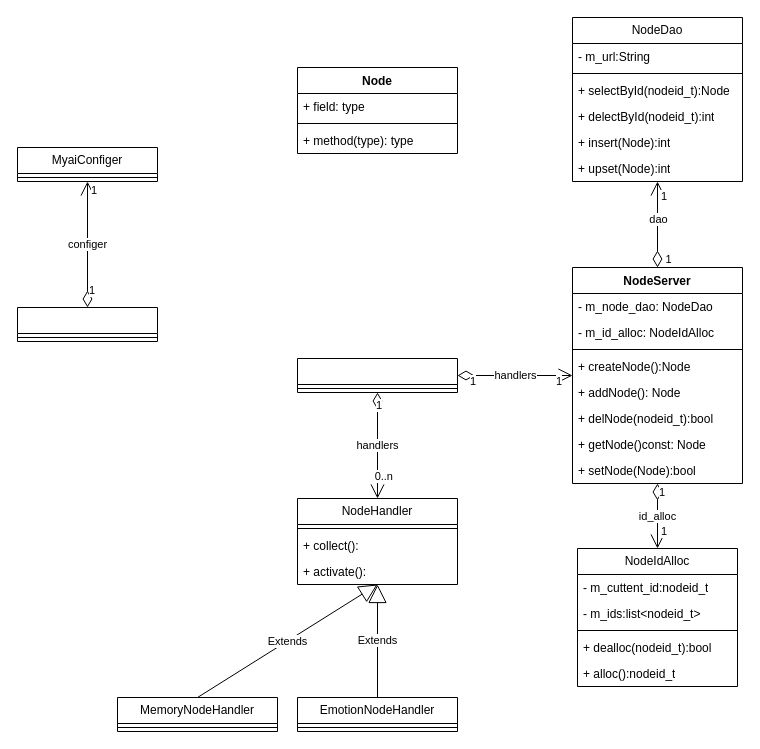
Some shapes in this 760 by 749 pixel diagram are drawn without their labels. Each missing label, with the centre of its shape:
"MyaiController" belongs at (87,324).
"NodeManager" belongs at (377,375).
